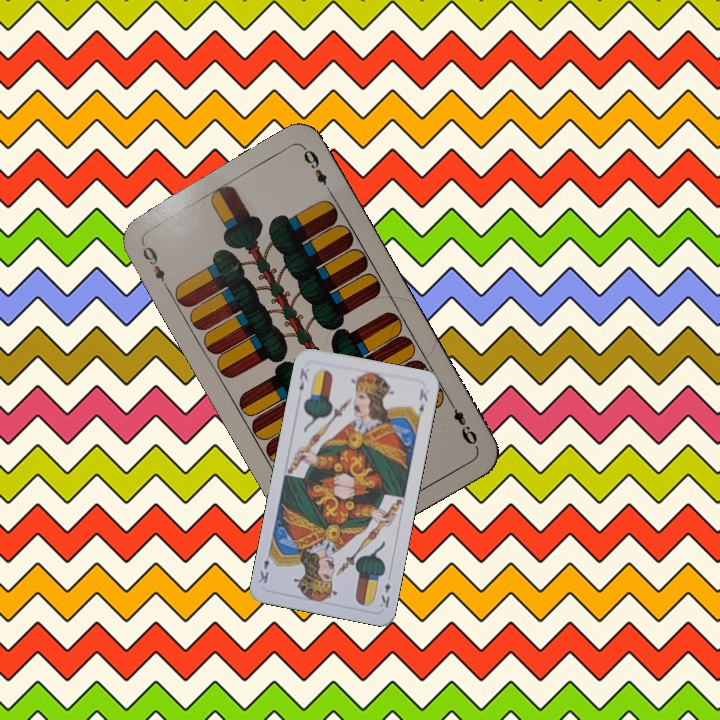E9: (444, 396, 481, 450), (137, 238, 172, 293)
EK: (375, 578, 393, 610), (295, 364, 310, 393)
